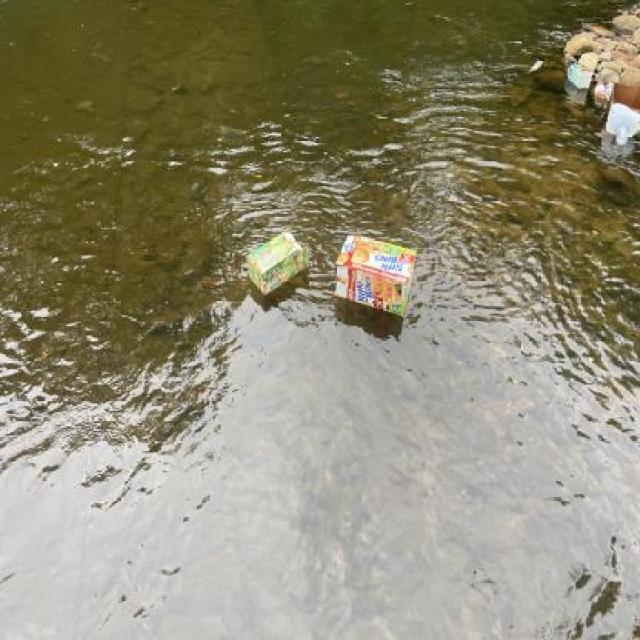Cardboard: (332, 230, 418, 321), (244, 227, 314, 296), (565, 60, 592, 91)
Plastic: (604, 79, 640, 146), (604, 82, 614, 102)
